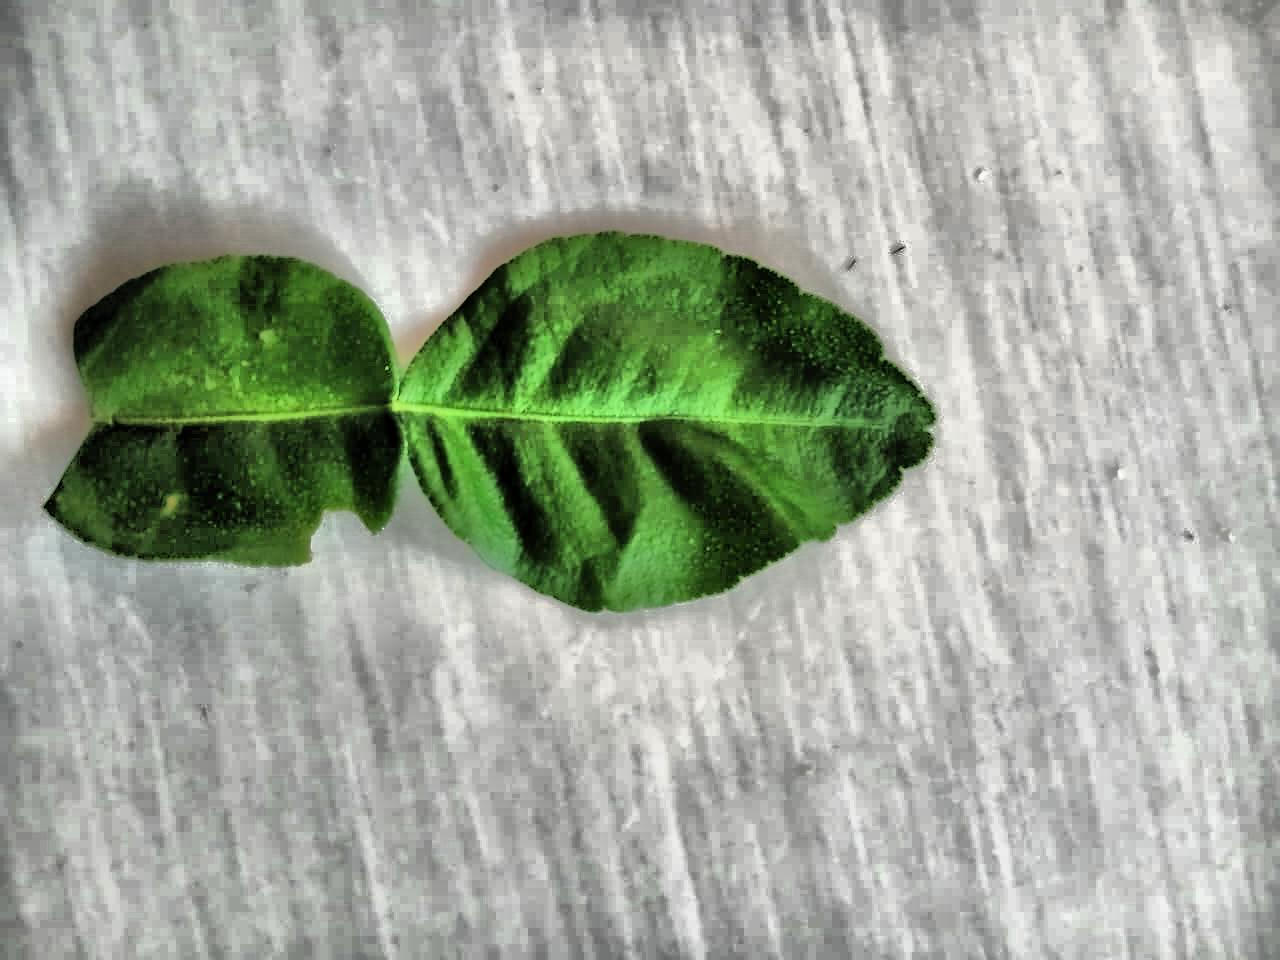daun jeruk: (44, 231, 935, 611)
